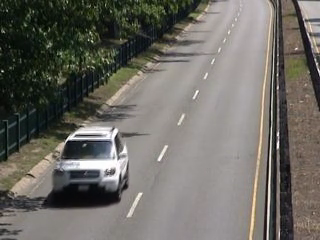car: (47, 122, 137, 206)
